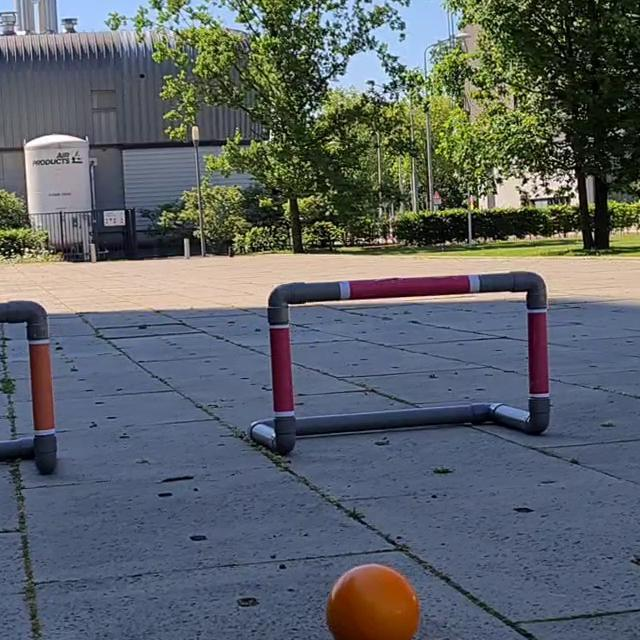ball: (325, 561, 421, 640)
